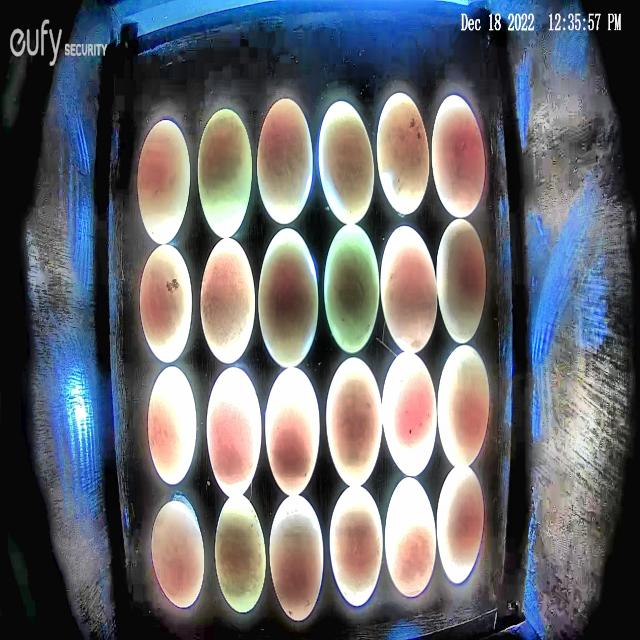UF: (257, 226, 319, 368), (326, 354, 384, 488), (323, 221, 380, 355), (264, 364, 321, 497), (206, 367, 263, 499), (256, 97, 314, 226), (318, 98, 376, 226), (380, 225, 438, 353), (197, 108, 253, 240), (199, 236, 256, 364), (381, 350, 438, 478), (268, 492, 324, 622), (136, 118, 191, 246), (328, 483, 384, 607), (431, 92, 486, 218), (436, 343, 491, 468), (376, 91, 430, 216), (139, 244, 194, 364), (384, 476, 438, 598), (436, 217, 487, 345), (214, 492, 266, 613), (147, 365, 198, 487), (151, 499, 205, 610), (435, 463, 484, 585)
